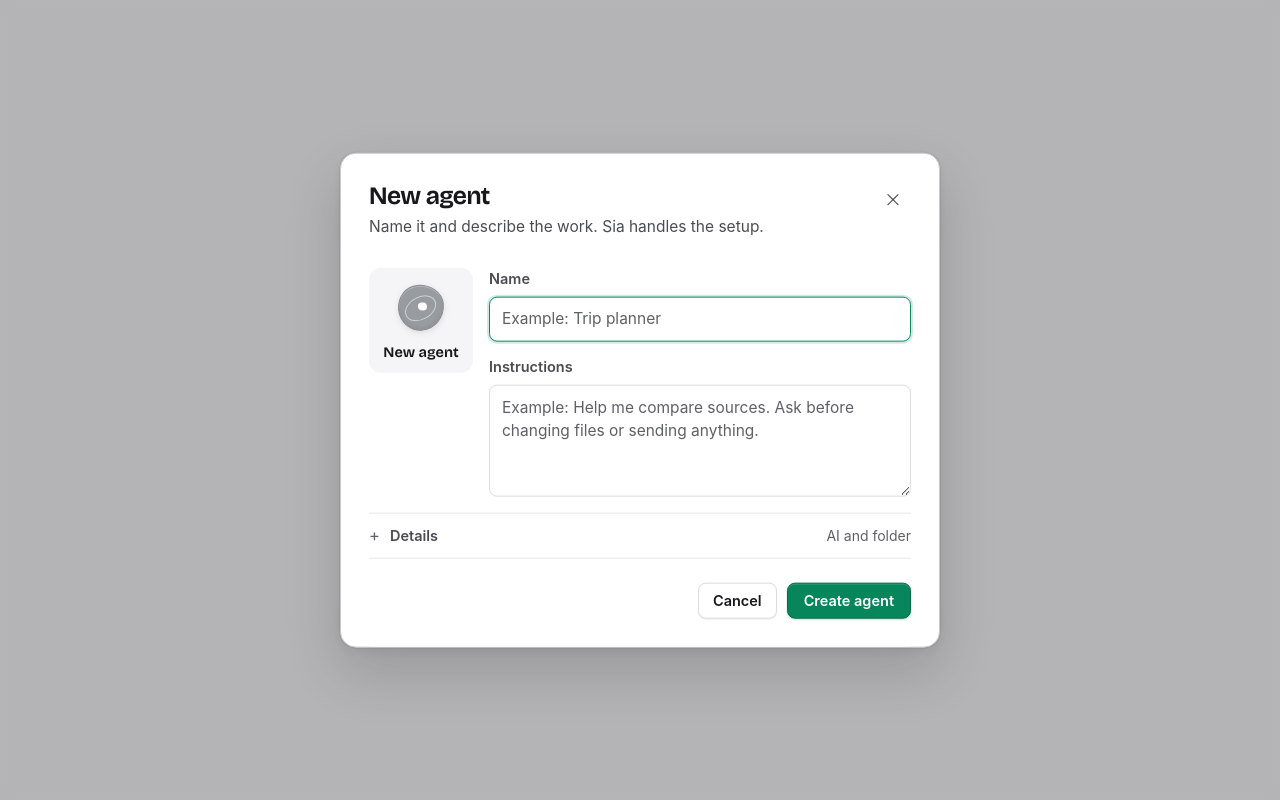
agent dialog › keeps model, workspace, and voice inside Details
Click the text "Details" at (414, 535), box [390,525,438,546]
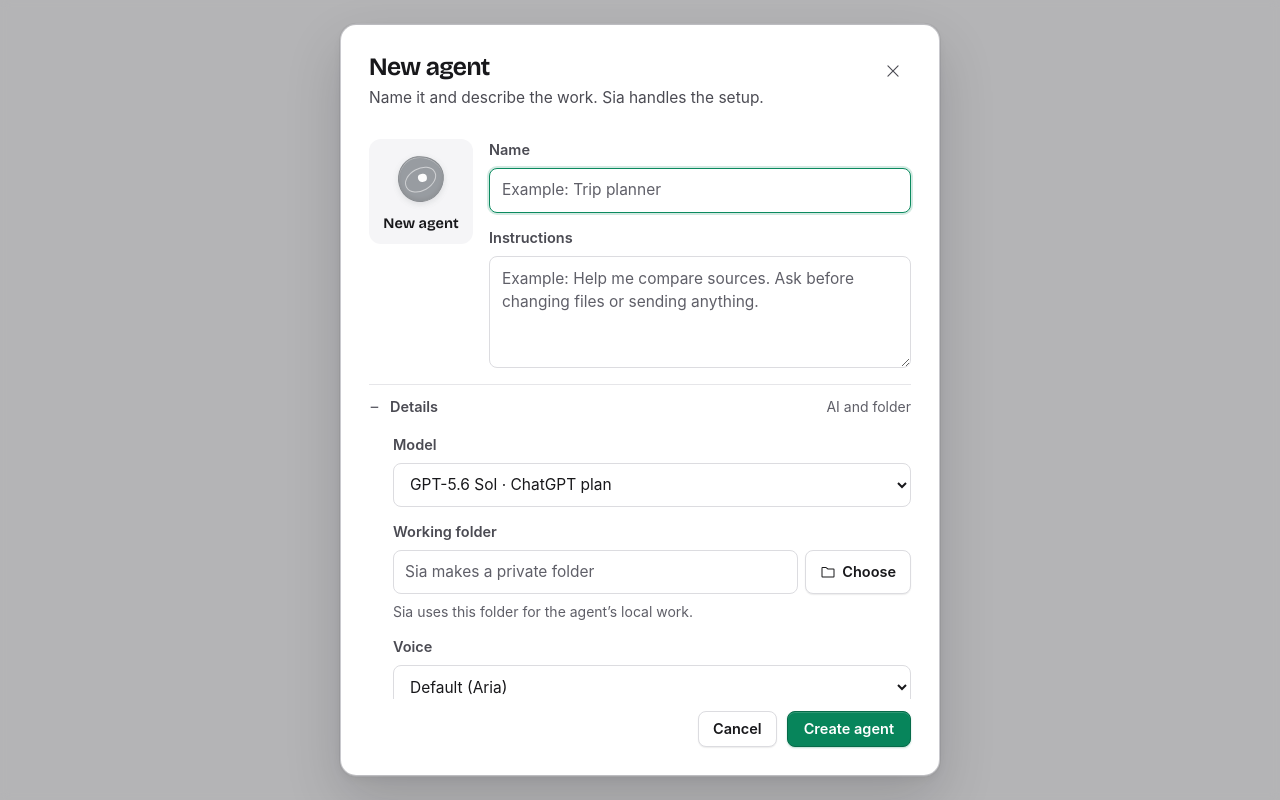
Result: the dropdown labelled "Model" is shown at [393,463,911,507]
Result: the dropdown labelled "Voice" is shown at [393,665,911,709]
Result: the button "Choose" is shown at [805,550,911,594]
